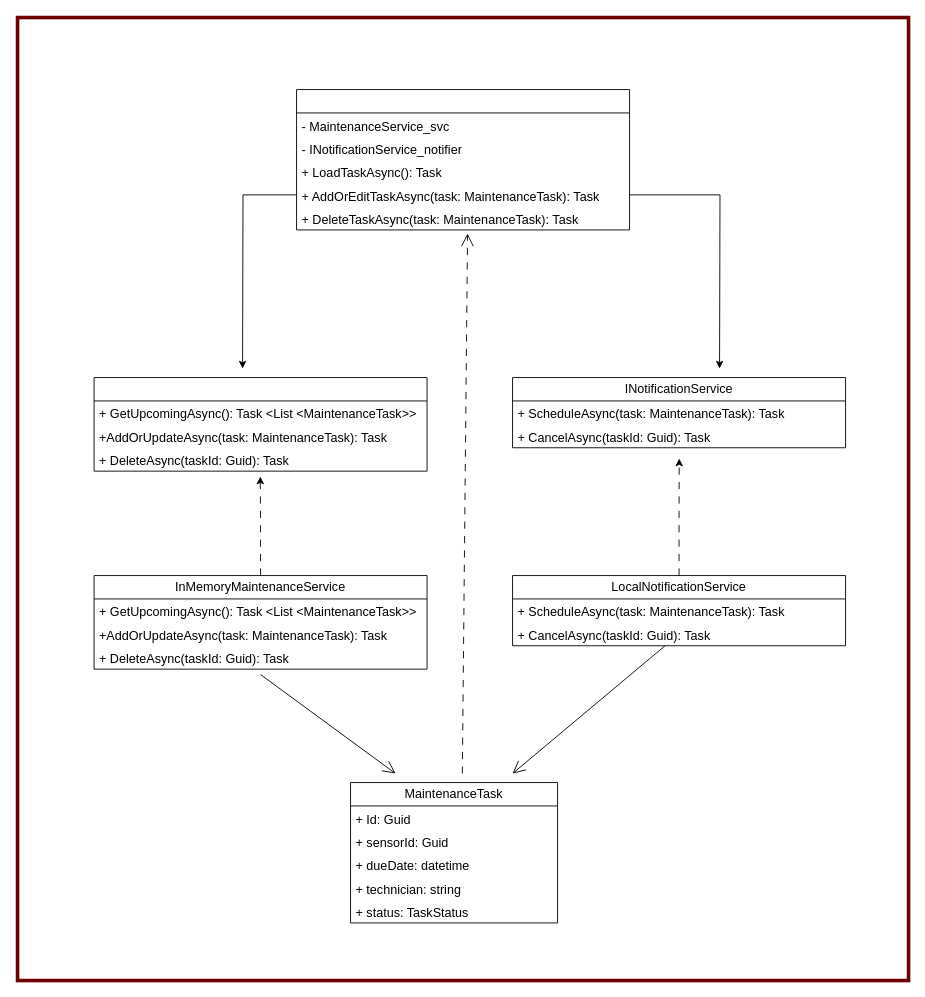
The diagram is 925 pixels wide and 997 high, and some of its shapes have lost their labels. The shapes that lost their labels are listed below. From the top down, each one's box as (x1, y1, x2, y2) in pixels, then its label:
(296, 89, 630, 230): MaintenanceViewModel
(93, 377, 427, 471): IMaintenanceService
